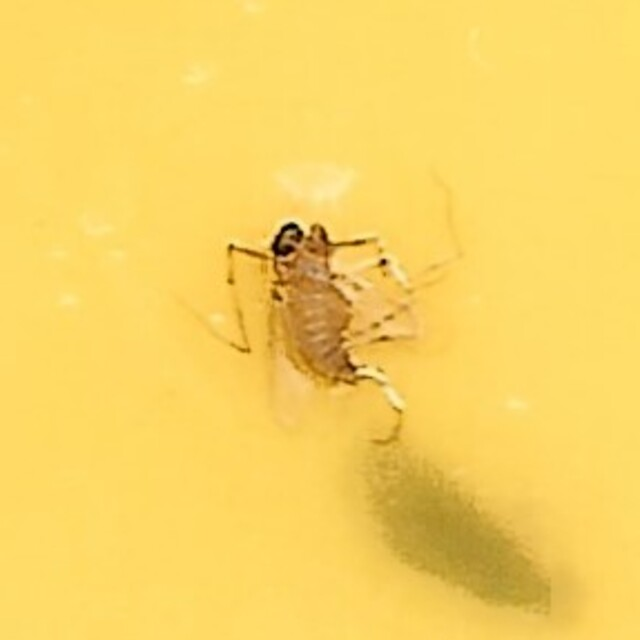Nematocera: (223, 218, 417, 422)
